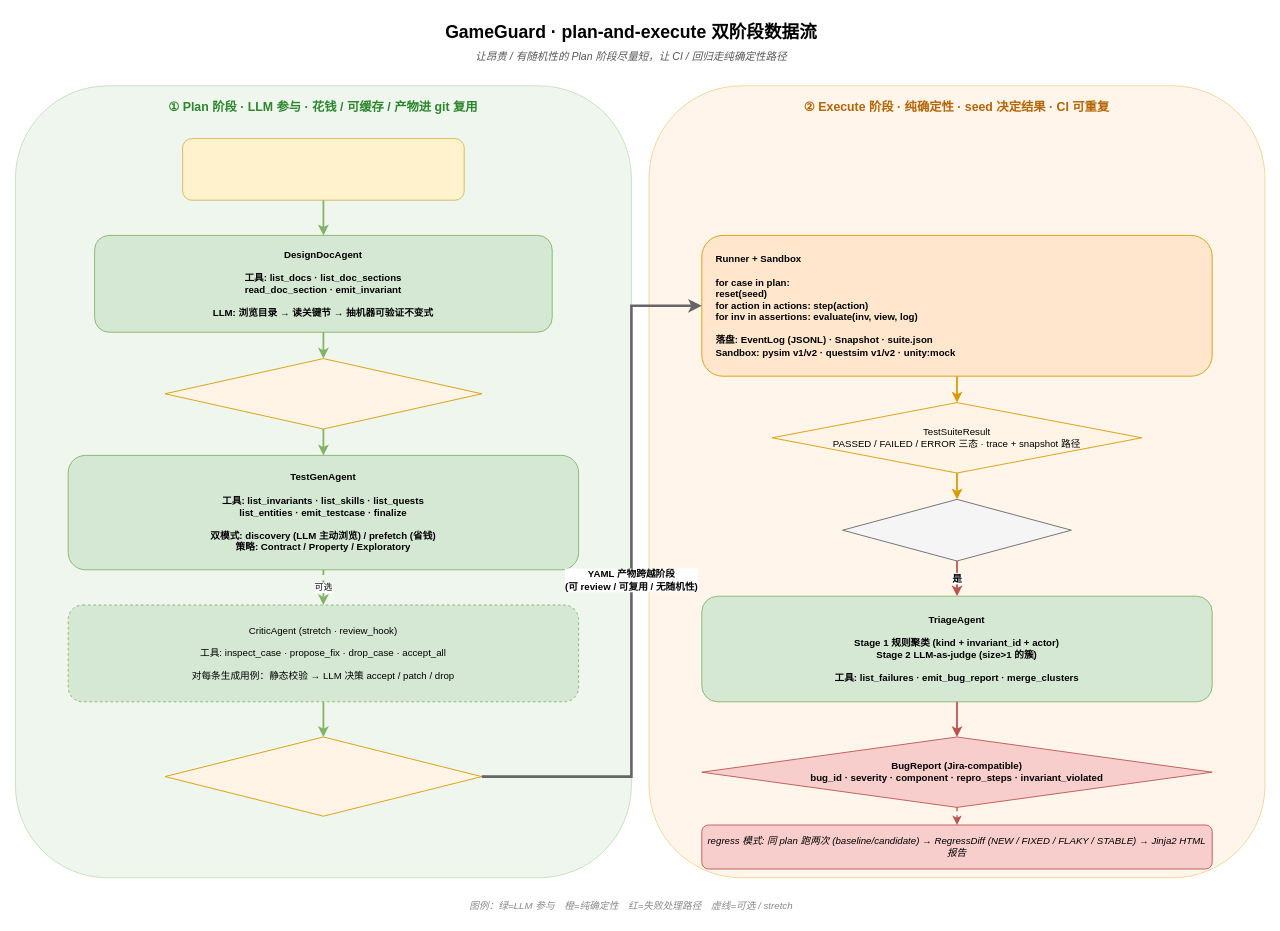
Some shapes in this 1280 by 931 pixel diagram are drawn without their labels. The centre of each missing label's shape, as x and y in pixels:
InvariantBundle 19 种 kind · Pydantic discriminated union: pixel 323 393
TestPlan.yaml 进 git · 可像 code 一样 review seed · actions · assertions: pixel 323 776
有 FAILED / ERROR 吗？: pixel 956 530
策划文档 docs/example_skill_v1.md docs/example_quest_harbor.md: pixel 323 169
